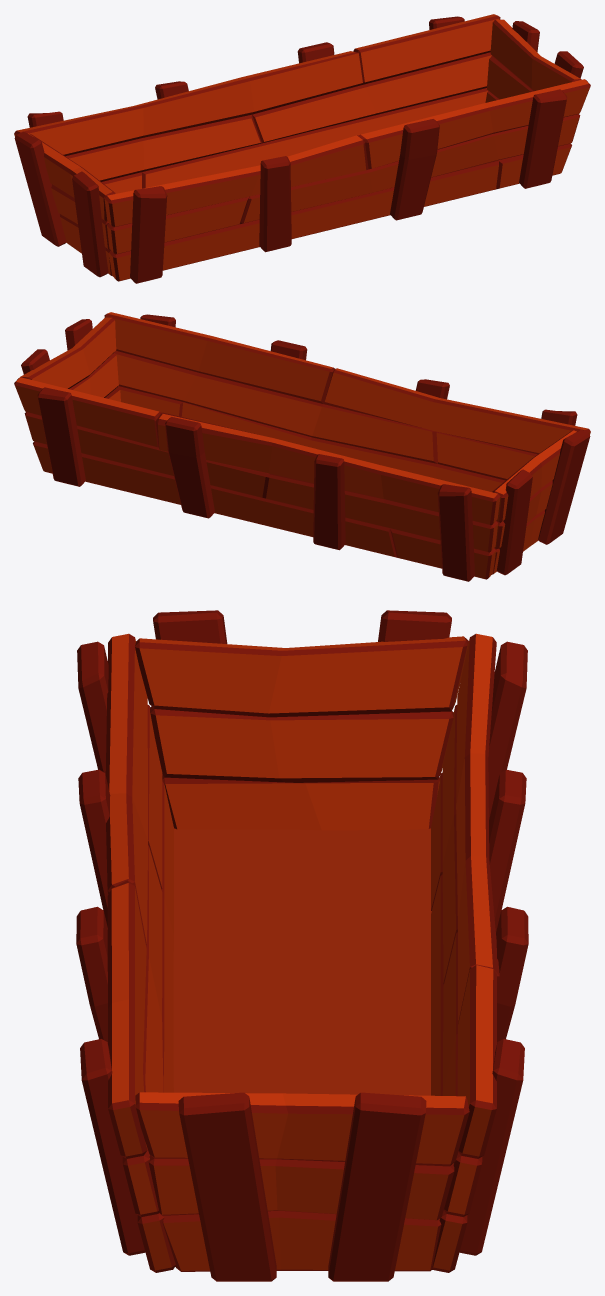
Rendered from item_12.glb.
3 renders of one model, top to bottom at view 1: azimuth 30°, elevation 25°; view 2: azimuth 150°, elevation 25°; view 3: azimuth 270°, elevation 25°, orthographic. The views are drawn at different scales.
Parts seen in each view (by area): view 1: Item12; view 2: Item12; view 3: Item12.
Boxes of the visible parts, left/top/right/bottom form: Item12: left=14, top=14, right=590, bottom=283; Item12: left=14, top=312, right=590, bottom=581; Item12: left=76, top=610, right=528, bottom=1281.
Size of what is drawn, in the model's own units: 1.35 by 0.2685 by 0.5256.
Materials: 1 (1 with a texture image).
